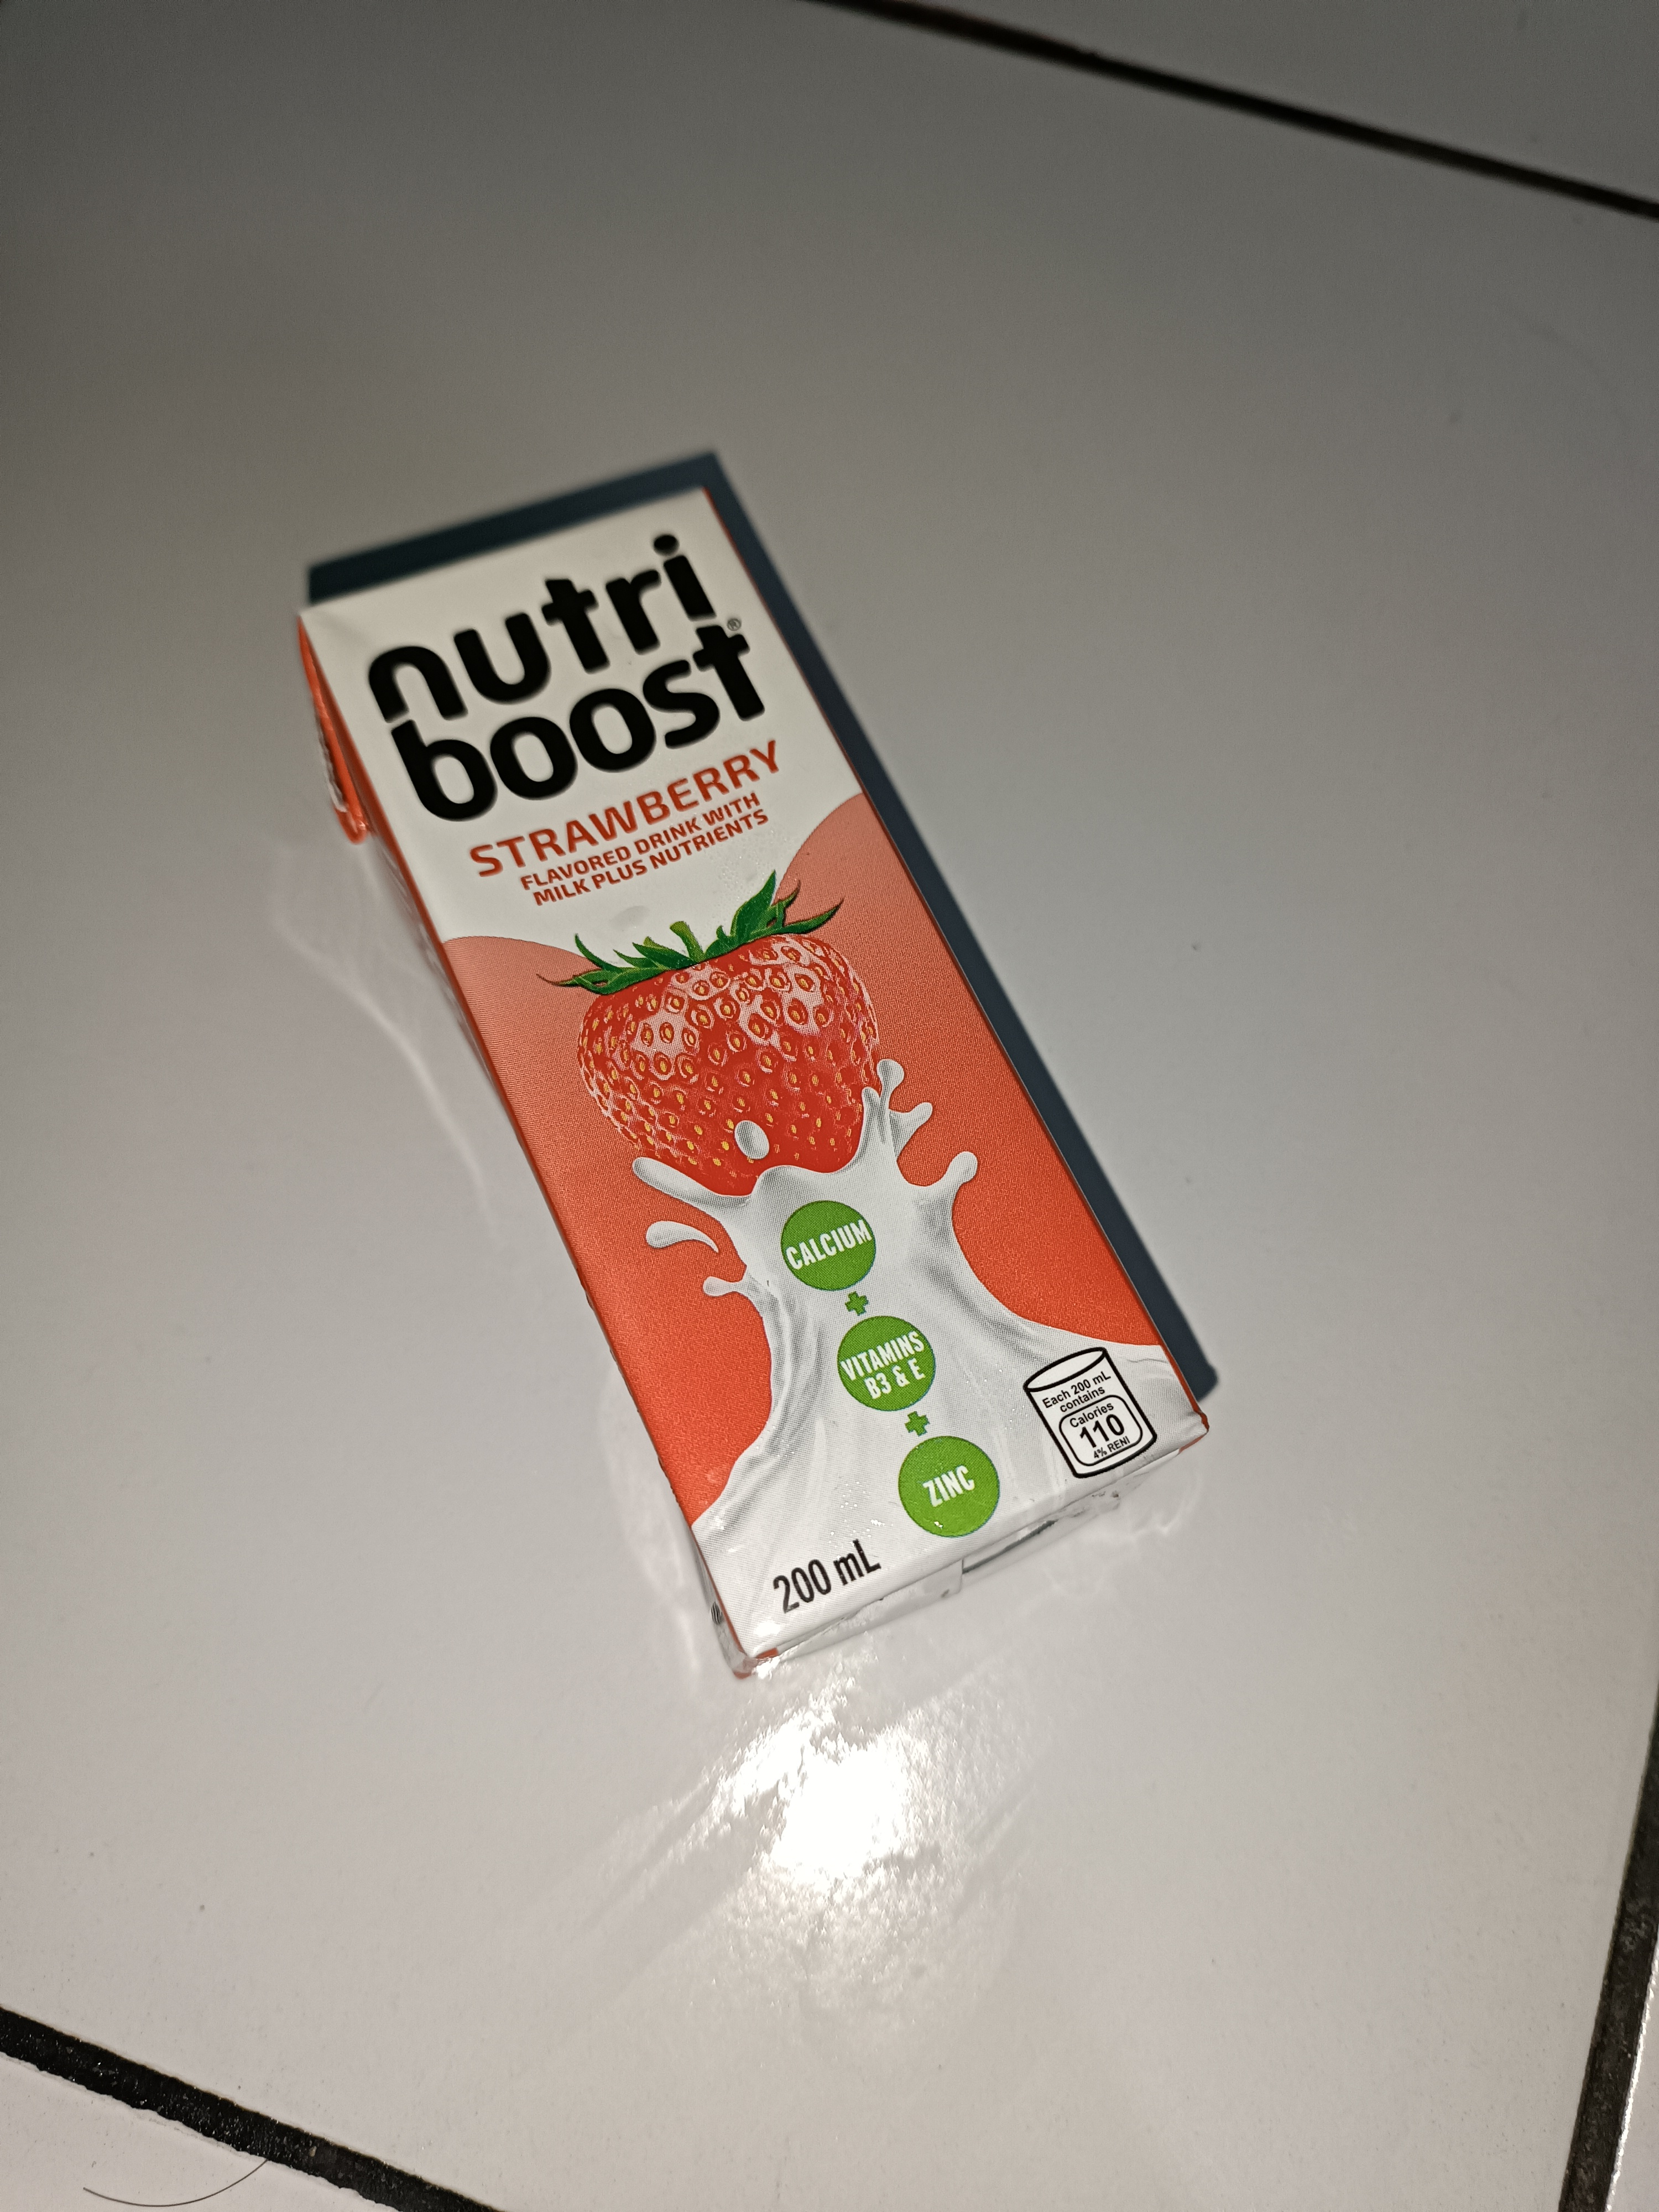Juice Box: (258, 366, 1134, 1777)
